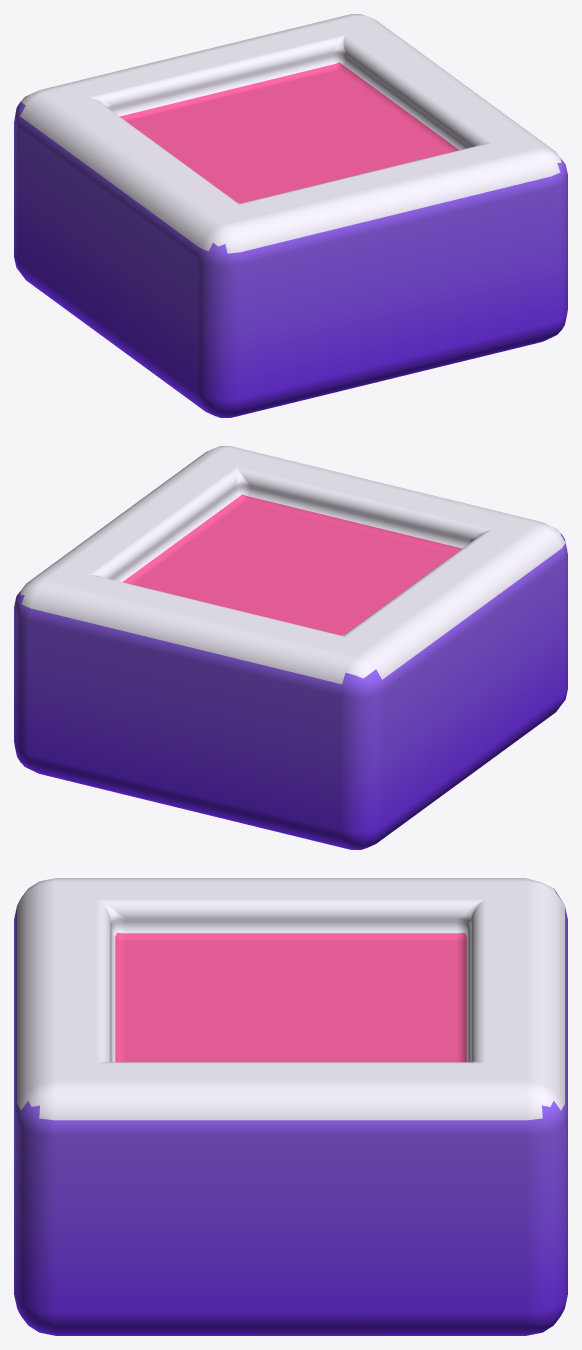
File: platform_2x2.glb
3 views of the same model, one above another, from view 1: azimuth 30°, elevation 25°; view 2: azimuth 150°, elevation 25°; view 3: azimuth 270°, elevation 25° (orthographic). The views are drawn at different scales.
Parts seen in each view (by area): view 1: platform_2x2; view 2: platform_2x2; view 3: platform_2x2.
Part boxes in pixels (x1,y1,x2,y2): platform_2x2: (14,14,567,417); platform_2x2: (14,446,567,849); platform_2x2: (14,878,567,1335).
Bounding box in the file's own units: 2 × 1 × 2.
1 material, 1 textured.
